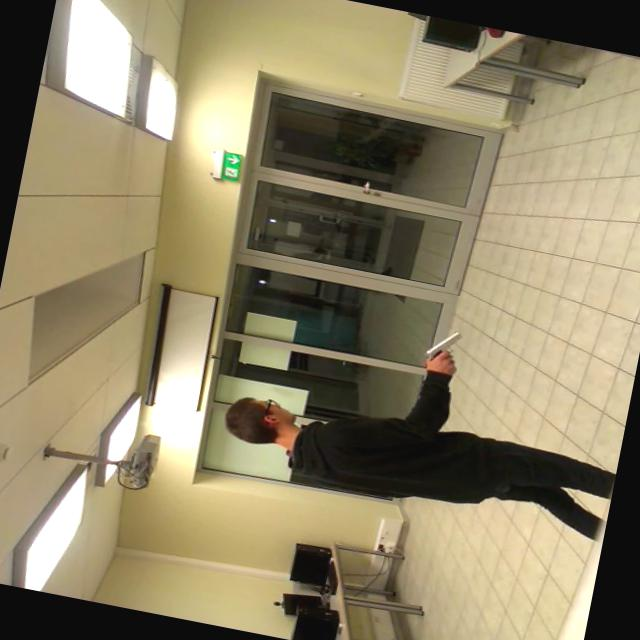handgun: (407, 320, 482, 370)
